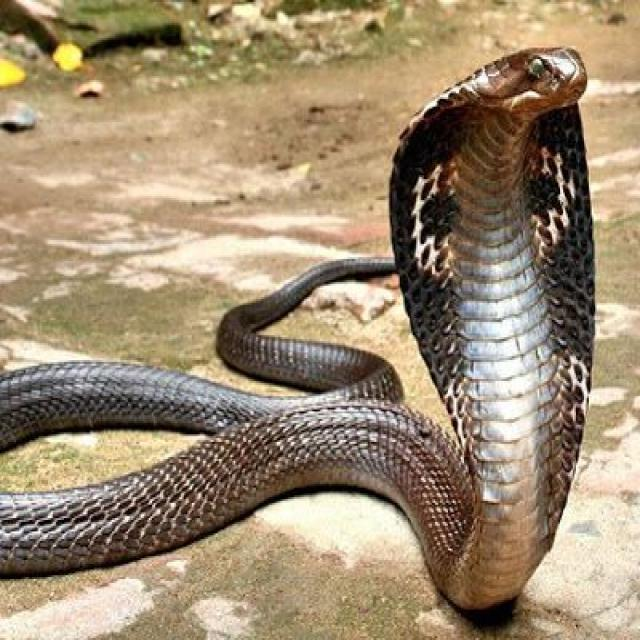Snake: (0, 41, 597, 614)
